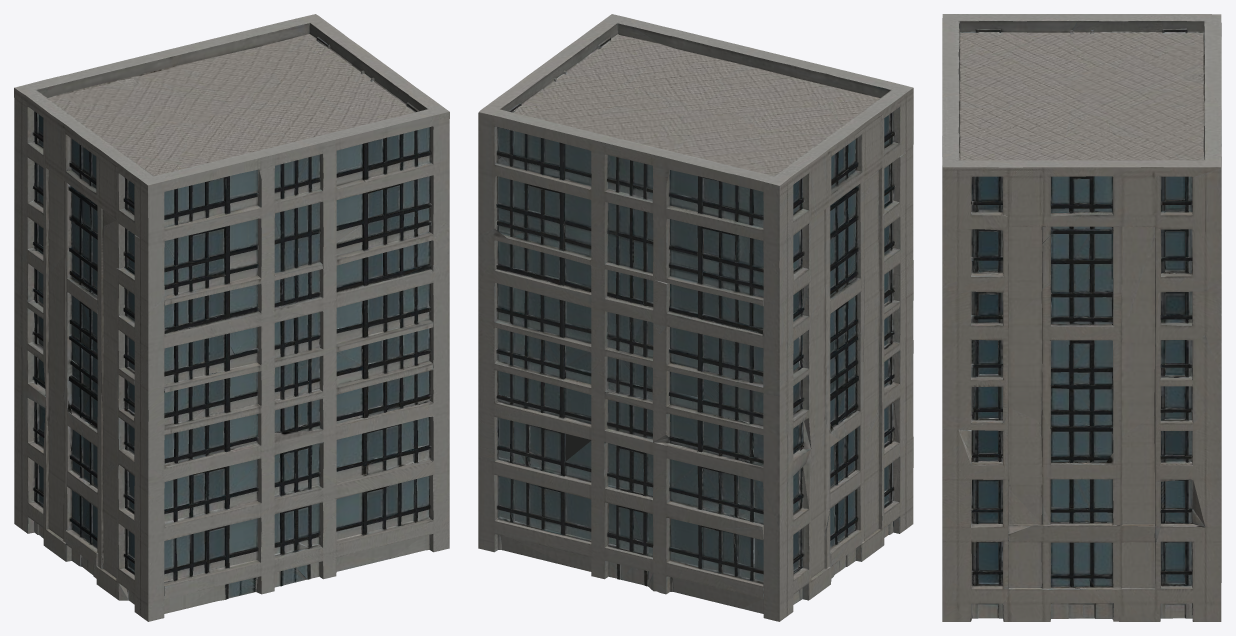
File: city_building_3.glb
The picture shows the model from 3 angles, left to right: view 1: azimuth 30°, elevation 25°; view 2: azimuth 150°, elevation 25°; view 3: azimuth 270°, elevation 25°; orthographic projection. The views are drawn at different scales.
Visible parts, largest first — view 1: output_unwrapped; view 2: output_unwrapped; view 3: output_unwrapped.
Part boxes in pixels (bbox=[...]): output_unwrapped: bbox=[14, 14, 449, 621]; output_unwrapped: bbox=[478, 14, 913, 621]; output_unwrapped: bbox=[942, 14, 1221, 621].
Bounding box in the file's own units: 1.37 × 1.9 × 1.06.
1 material, 1 textured.
